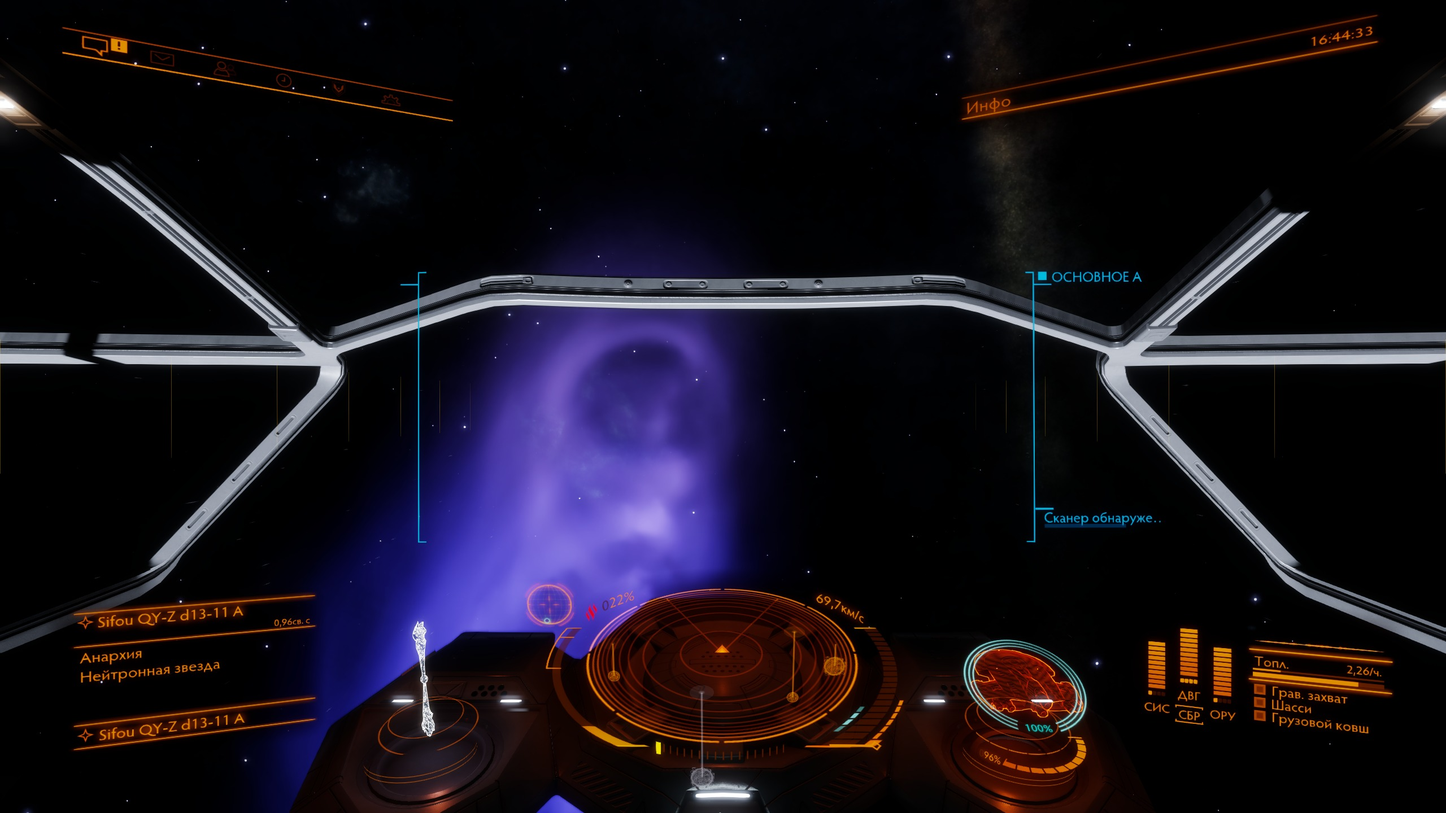jetcone: (346, 296, 745, 610)
